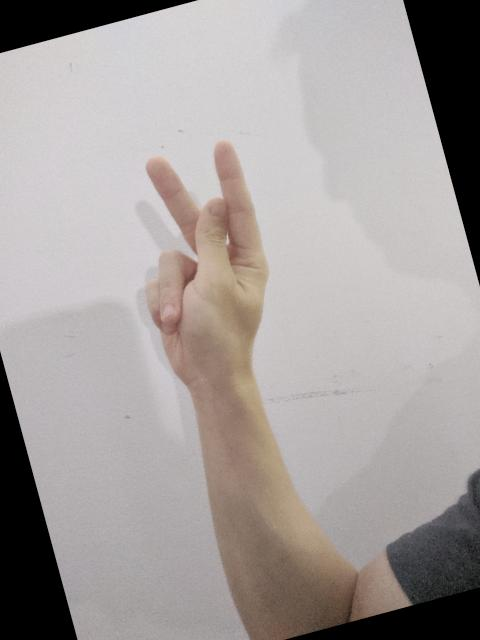K: (102, 126, 302, 397)
